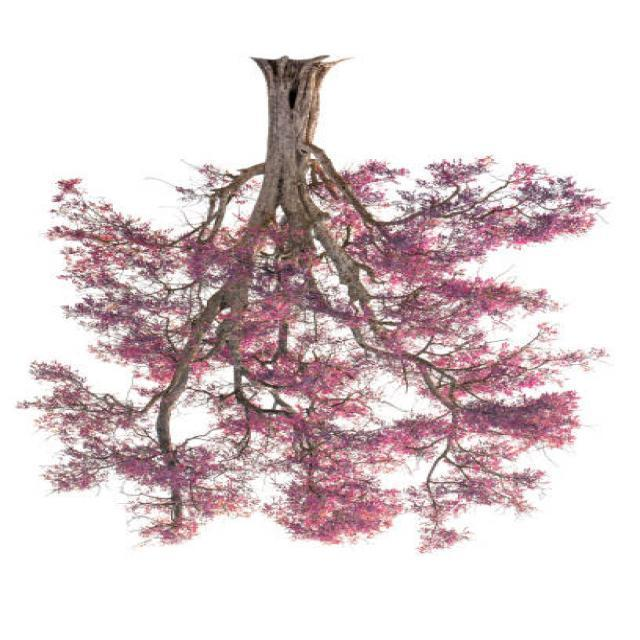tree: (35, 59, 637, 571)
